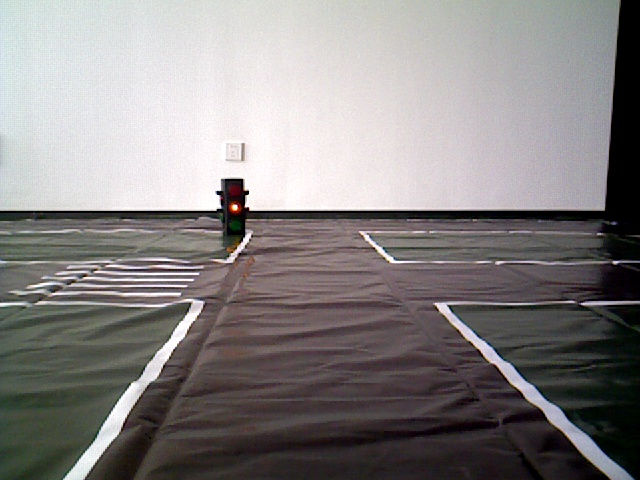yellow: (221, 177, 242, 233)
